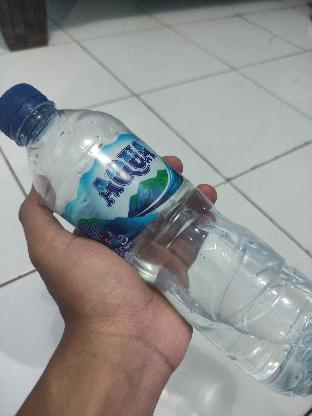Plastic Bottle: (0, 66, 312, 404)
